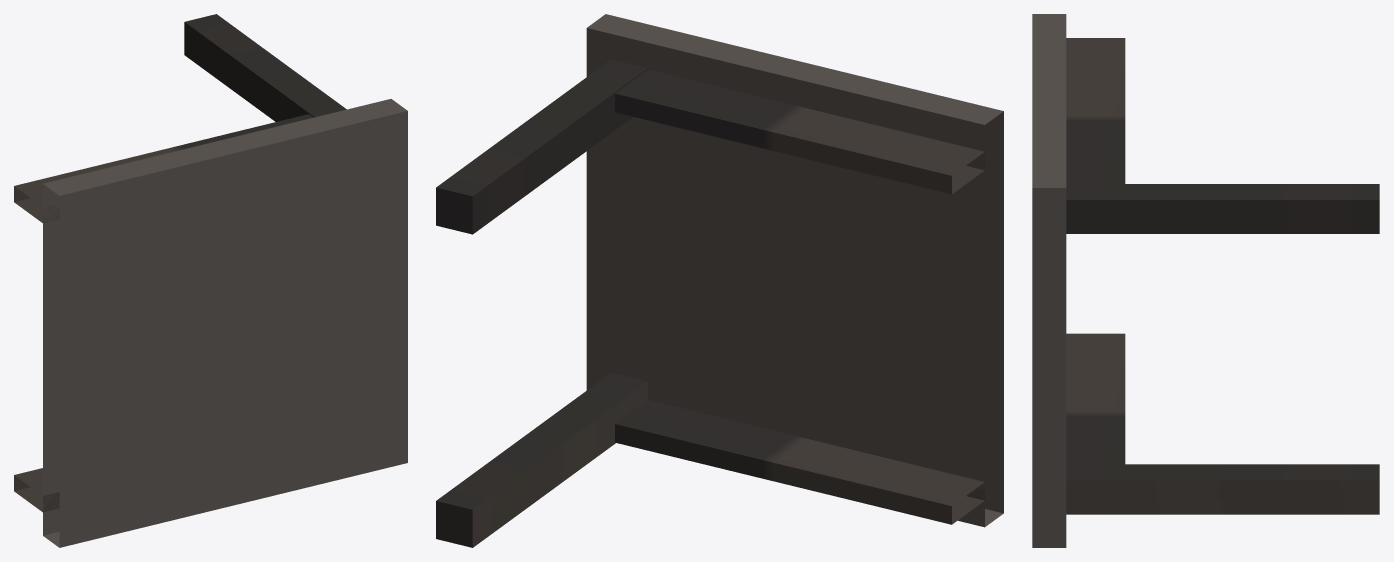
The model's file is pz_table_tables_high_01_large_dark_1_0.obj.
The picture shows the model from 3 angles, left to right: view 1: azimuth 30°, elevation 25°; view 2: azimuth 150°, elevation 25°; view 3: azimuth 270°, elevation 25°; orthographic projection. The views are drawn at different scales.
Bounding box in the file's own units: 0.9062 × 0.875 × 0.7655.
Materials: 1 (1 with a texture image).
